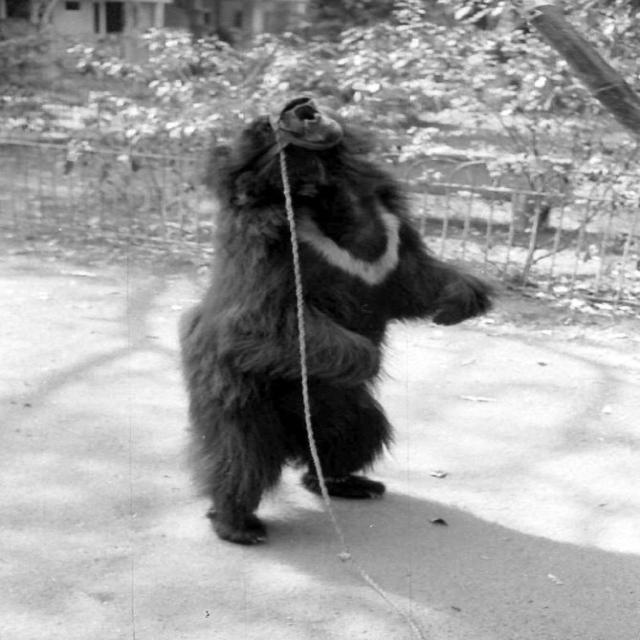Buffalo: (178, 95, 509, 545)
